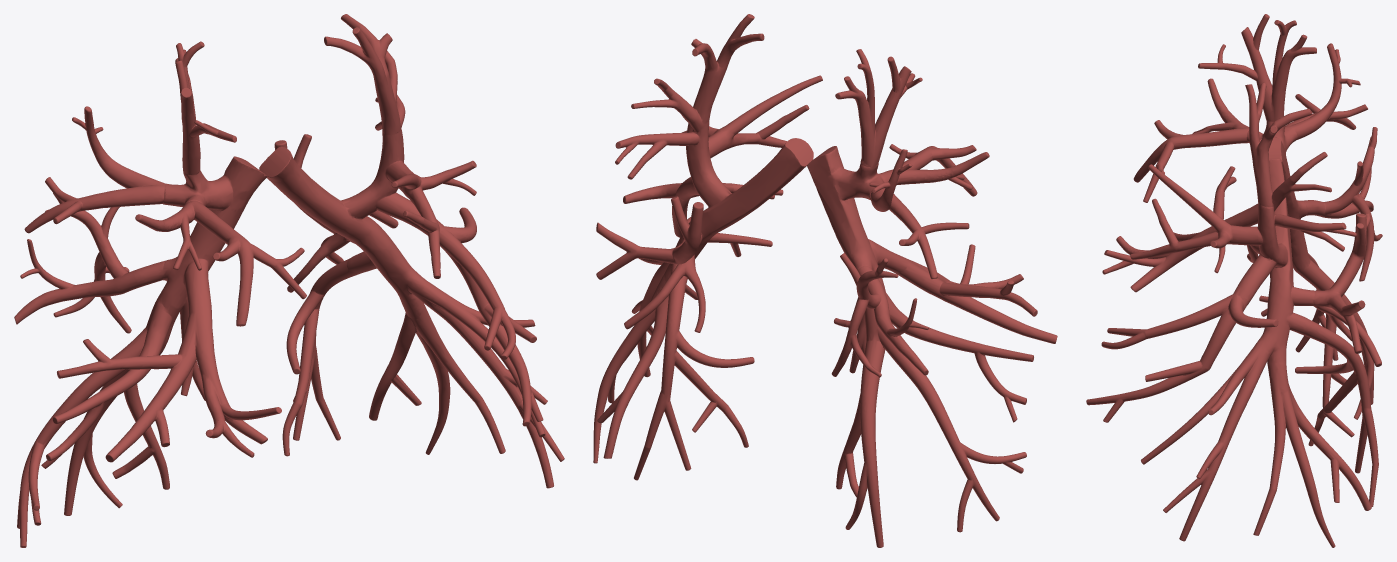
File: FMA7409.glb
3 renders of one model, left to right at view 1: azimuth 30°, elevation 25°; view 2: azimuth 150°, elevation 25°; view 3: azimuth 270°, elevation 25°, orthographic. The views are drawn at different scales.
Visible parts, largest first — view 1: FMA7409; view 2: FMA7409; view 3: FMA7409.
Part boxes in pixels (left/top/right/bottom): FMA7409: left=14, top=14, right=564, bottom=547; FMA7409: left=593, top=14, right=1057, bottom=547; FMA7409: left=1086, top=14, right=1382, bottom=547.
Size of the model in its own units: 0.2439 by 0.2447 by 0.1562.
